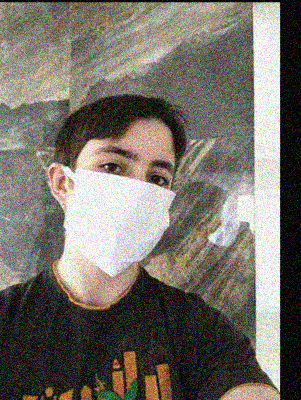with_mask: (62, 140, 176, 278)
